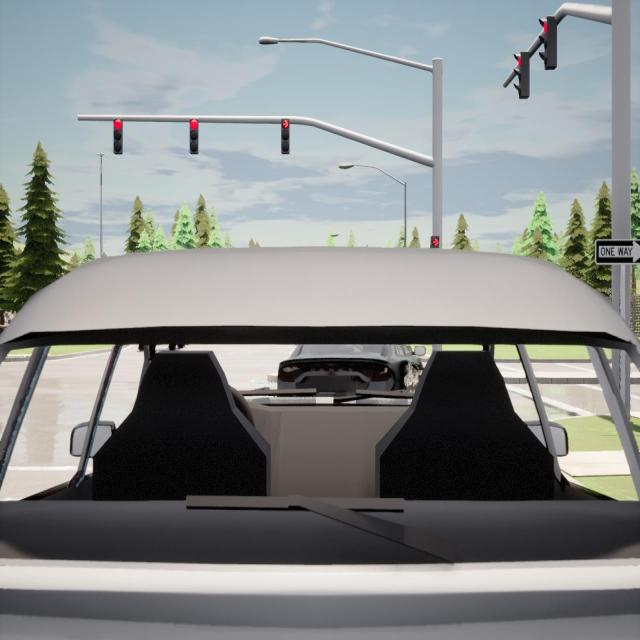Traffic_Signs: (595, 239, 640, 264)
Vehicle: (0, 243, 640, 635), (268, 344, 427, 394)
traffic_light: (538, 18, 558, 70), (513, 52, 530, 99), (190, 118, 198, 154), (114, 119, 122, 155), (281, 119, 289, 154), (431, 236, 440, 247)
